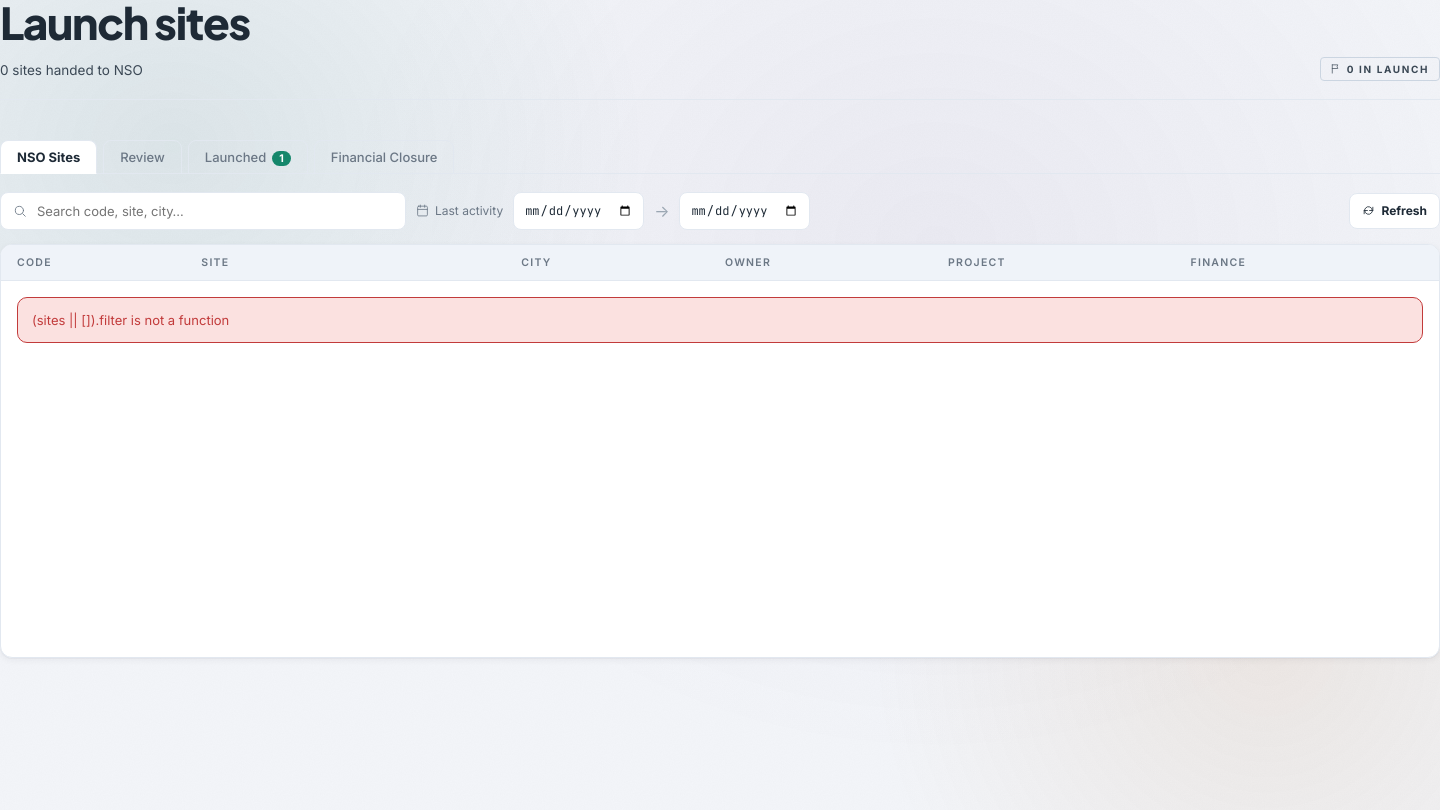
Test case: Launch Sites — Financial Closure tab › offers Details on a closed site, opening the closure record
Click the button "Financial Closure": x=384, y=157 x1=314 y1=140 x2=454 y2=174
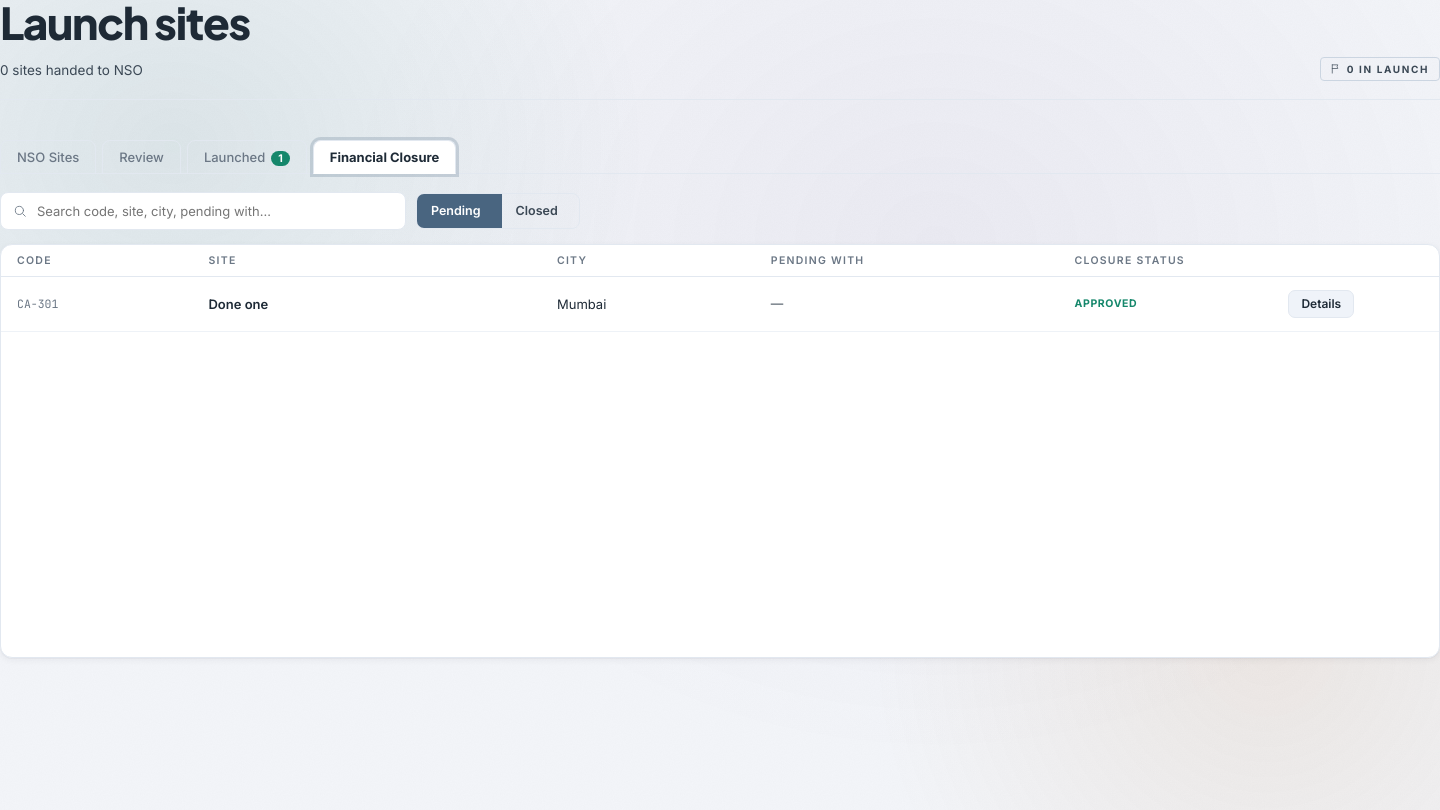
Click the button "Closed": x=540, y=211 x1=502 y1=194 x2=579 y2=228
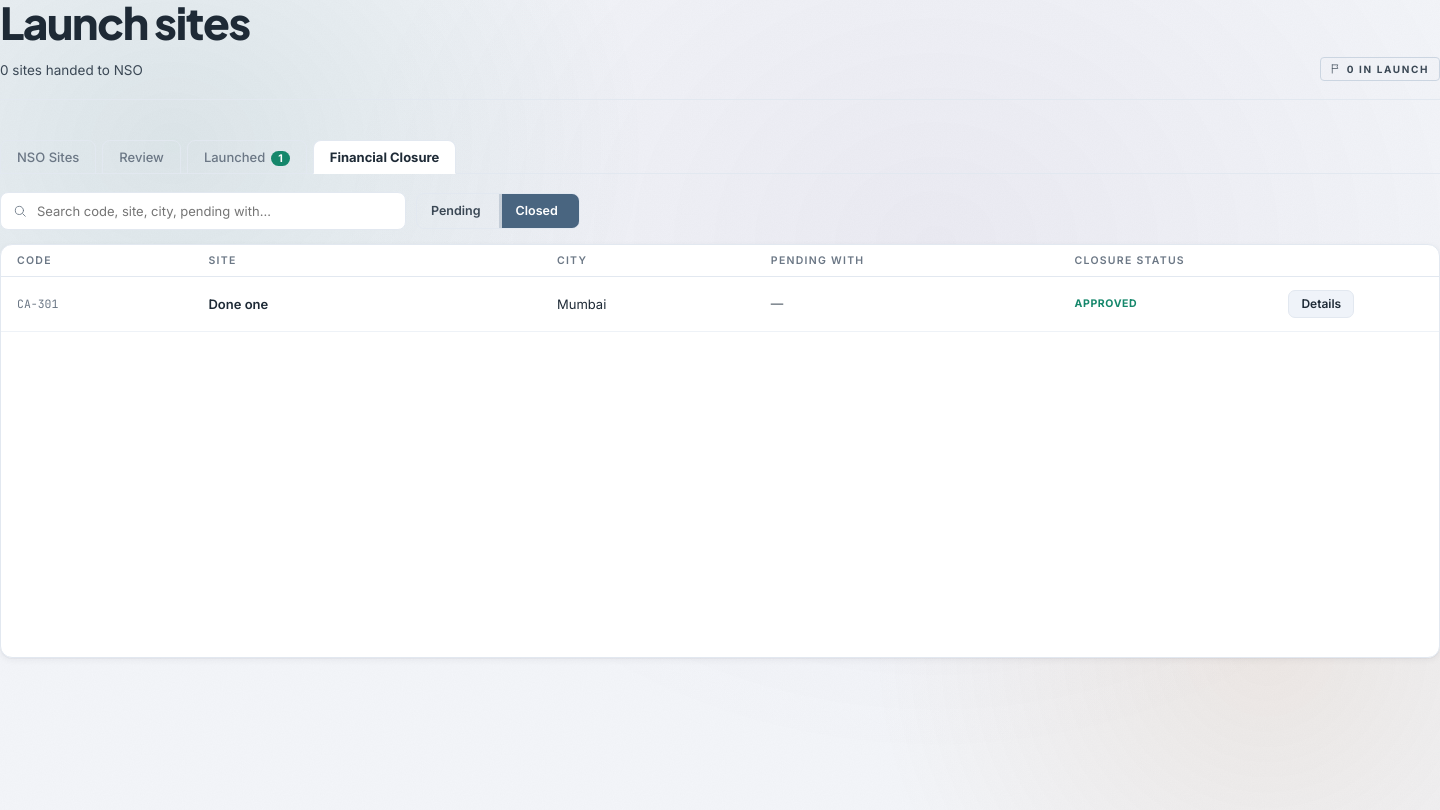
Click the button with aria-label "Details for Done one": x=1321, y=304 x1=1288 y1=290 x2=1354 y2=318
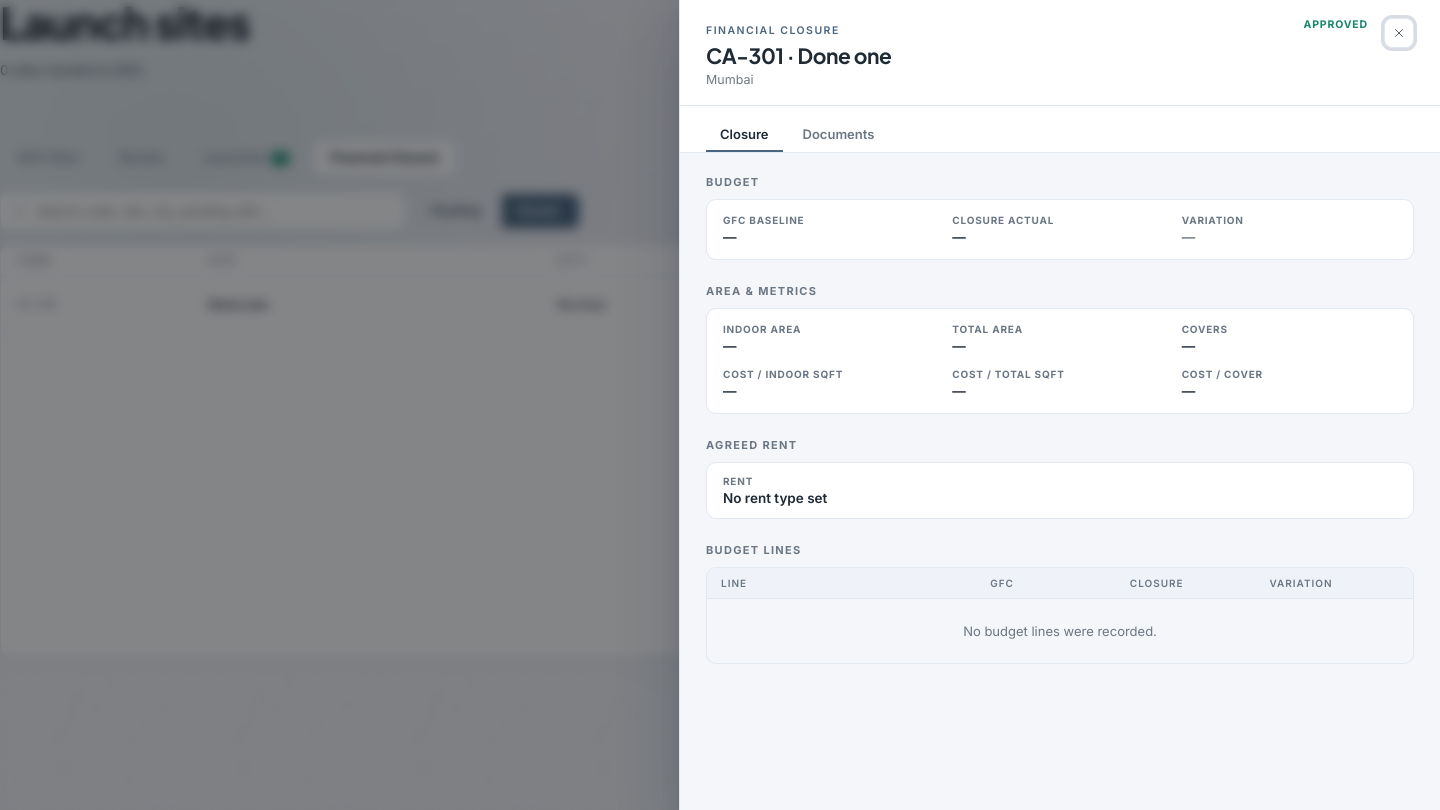
Check: the dialog named "Financial closure details" is shown, box x1=679 y1=0 x2=1439 y2=809
